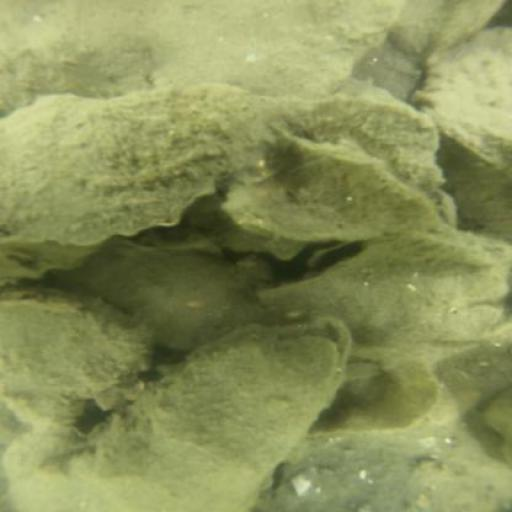Oyster-Closed: (2, 88, 283, 251), (3, 286, 151, 431), (275, 427, 503, 509), (75, 248, 251, 350), (266, 86, 438, 187), (409, 28, 512, 138), (374, 226, 494, 279)
Oyster-Open: (72, 322, 353, 502)
